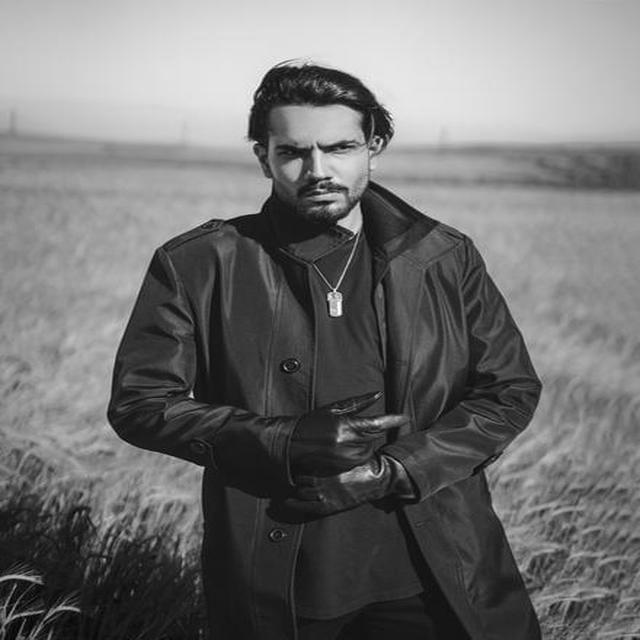Angry: (268, 104, 369, 220)
